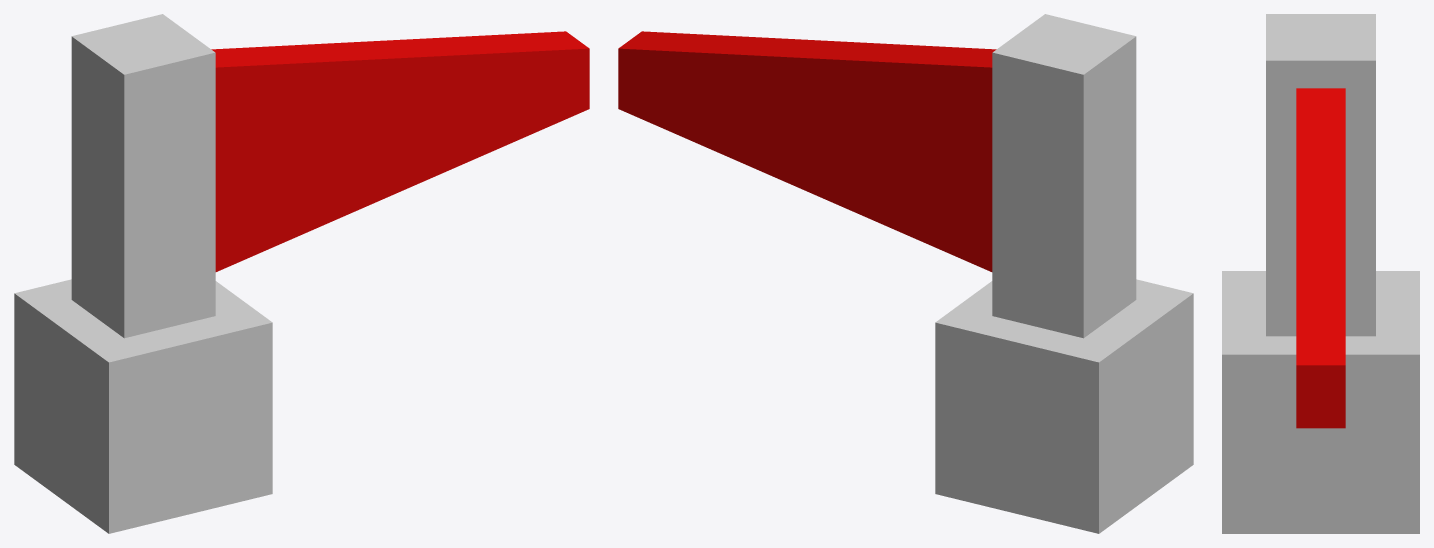
3 views of the same model, side by side, from view 1: azimuth 30°, elevation 25°; view 2: azimuth 150°, elevation 25°; view 3: azimuth 270°, elevation 25° (orthographic). The views are drawn at different scales.
Parts seen in each view (by area): view 1: Cube; view 2: Cube; view 3: Cube.
Boxes of the visible parts, x1,y1,x2,y2 form: Cube: [14, 14, 589, 533]; Cube: [618, 14, 1193, 533]; Cube: [1222, 14, 1419, 533].
Size of the model in its own units: 6.3 by 5.07 by 2.
